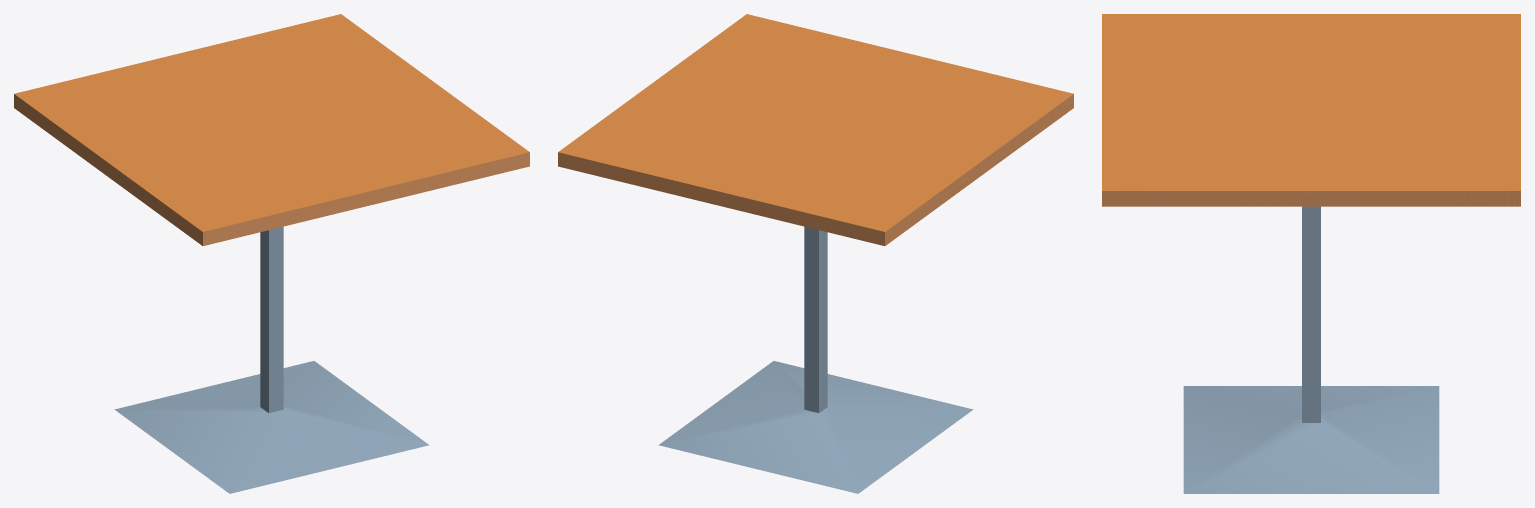
File: cafe_table_new.dae
3 views of the same model, side by side, from view 1: azimuth 30°, elevation 25°; view 2: azimuth 150°, elevation 25°; view 3: azimuth 270°, elevation 25° (orthographic). The views are drawn at different scales.
Parts seen in each view (by area): view 1: Top_Square.004, SketchUp, Top_Square.003; view 2: Top_Square.004, SketchUp, Top_Square.003; view 3: Top_Square.004, SketchUp, Top_Square.003.
Boxes of the visible parts, box(x1,y1,x2,y2) form: Top_Square.004: box(14, 14, 529, 231); SketchUp: box(114, 226, 429, 493); Top_Square.003: box(14, 94, 529, 245); Top_Square.004: box(558, 14, 1073, 231); SketchUp: box(658, 226, 973, 493); Top_Square.003: box(558, 94, 1073, 245); Top_Square.004: box(1102, 14, 1520, 190); SketchUp: box(1183, 206, 1439, 493); Top_Square.003: box(1102, 191, 1520, 206).
Bounding box in the file's own units: 0.9144 × 0.9144 × 0.8145.
